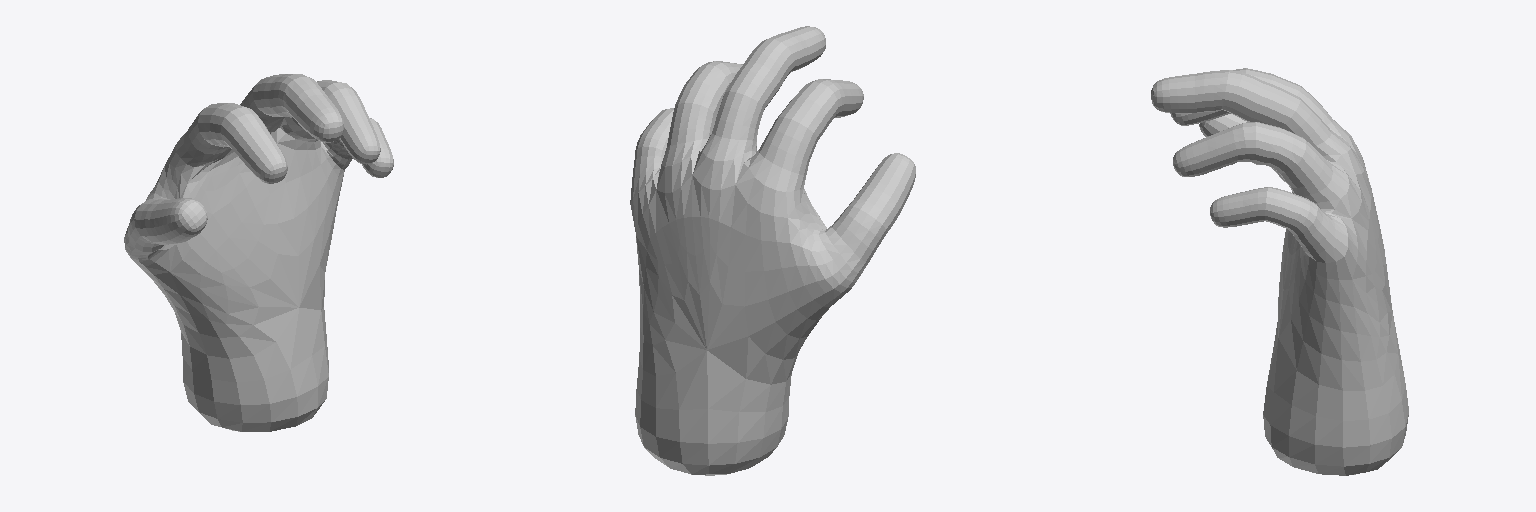
File: handanimatsion30.obj
3 renders of one model, left to right at view 1: azimuth 30°, elevation 25°; view 2: azimuth 150°, elevation 25°; view 3: azimuth 270°, elevation 25°, orthographic.
Visible parts, largest first — view 1: Cube; view 2: Cube; view 3: Cube.
Part boxes in pixels (bbox=[...]): Cube: bbox=[124, 74, 393, 431]; Cube: bbox=[630, 26, 915, 475]; Cube: bbox=[1151, 68, 1408, 475].
Size of the model in its own units: 3.33 by 5.15 by 3.12.